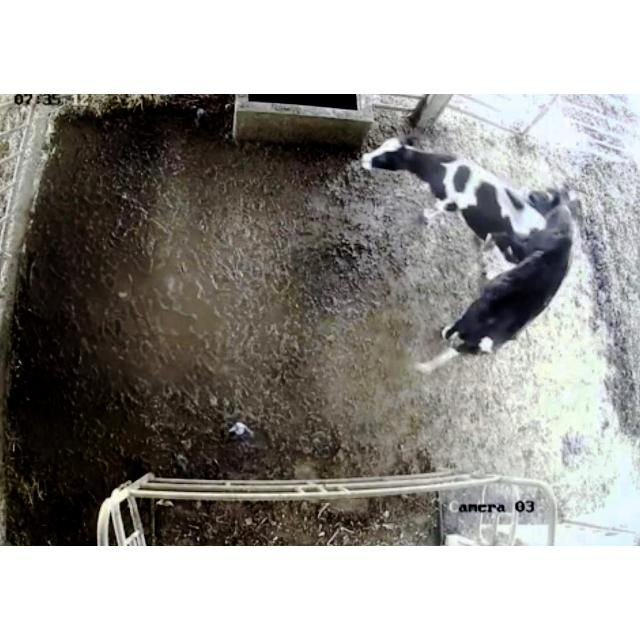ride: (416, 187, 578, 373)
